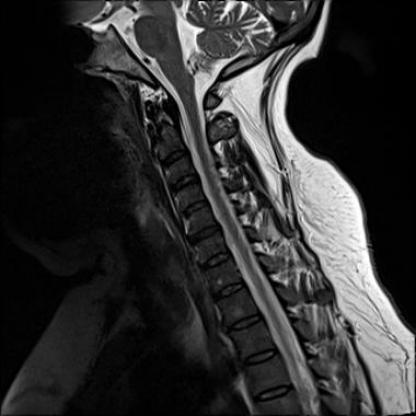Disc Herniationrotation: (186, 227, 225, 244)
Disc Protrusionrotation: (167, 173, 200, 192)
